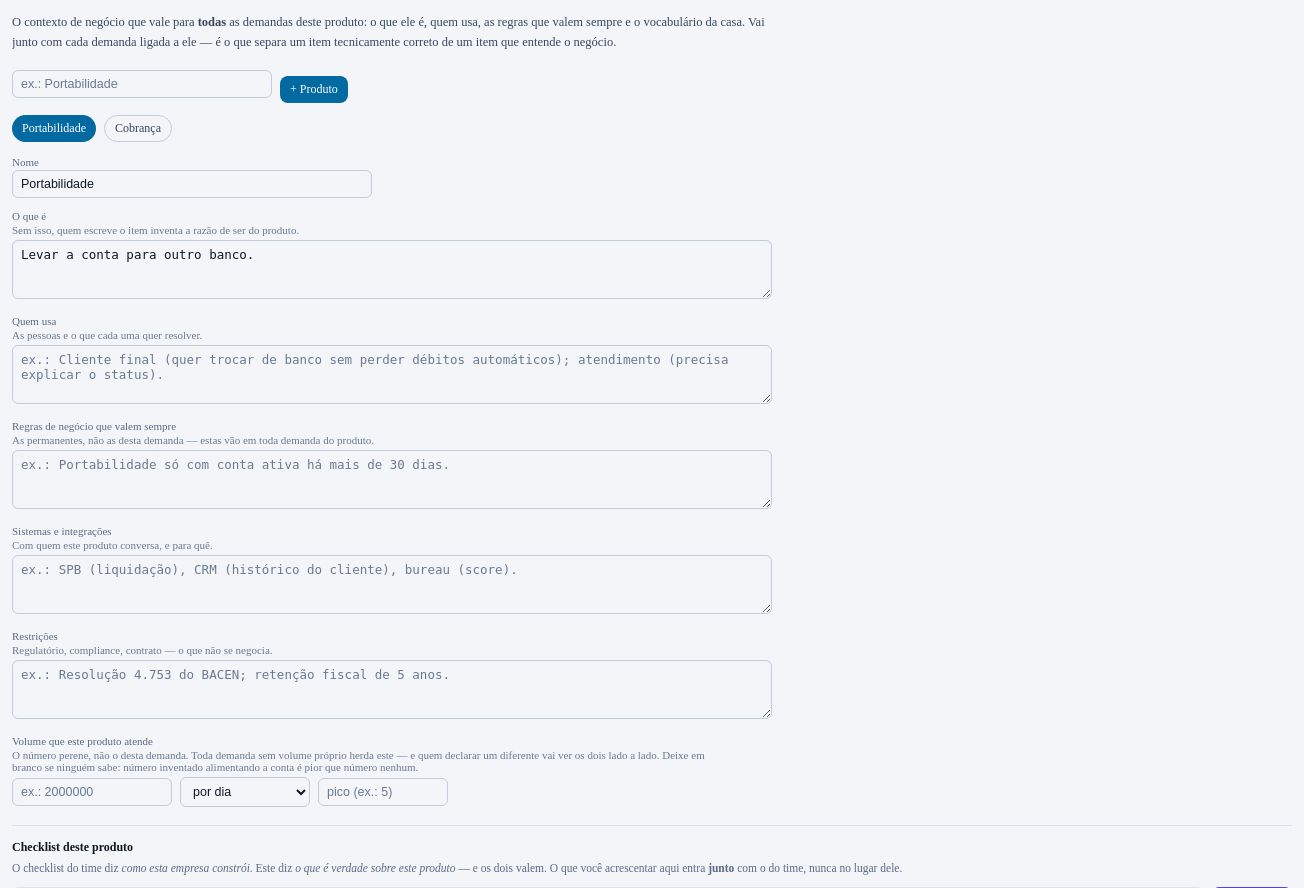
Test: ProdutosTab — o que a releitura pode e não pode substituir › TROCAR de produto substitui tudo — aí a pessoa pediu por isso
Replace the text in the text box named "O que é" with "rascunho do primeiro" at (392, 270), box x1=12 y1=240 x2=772 y2=299
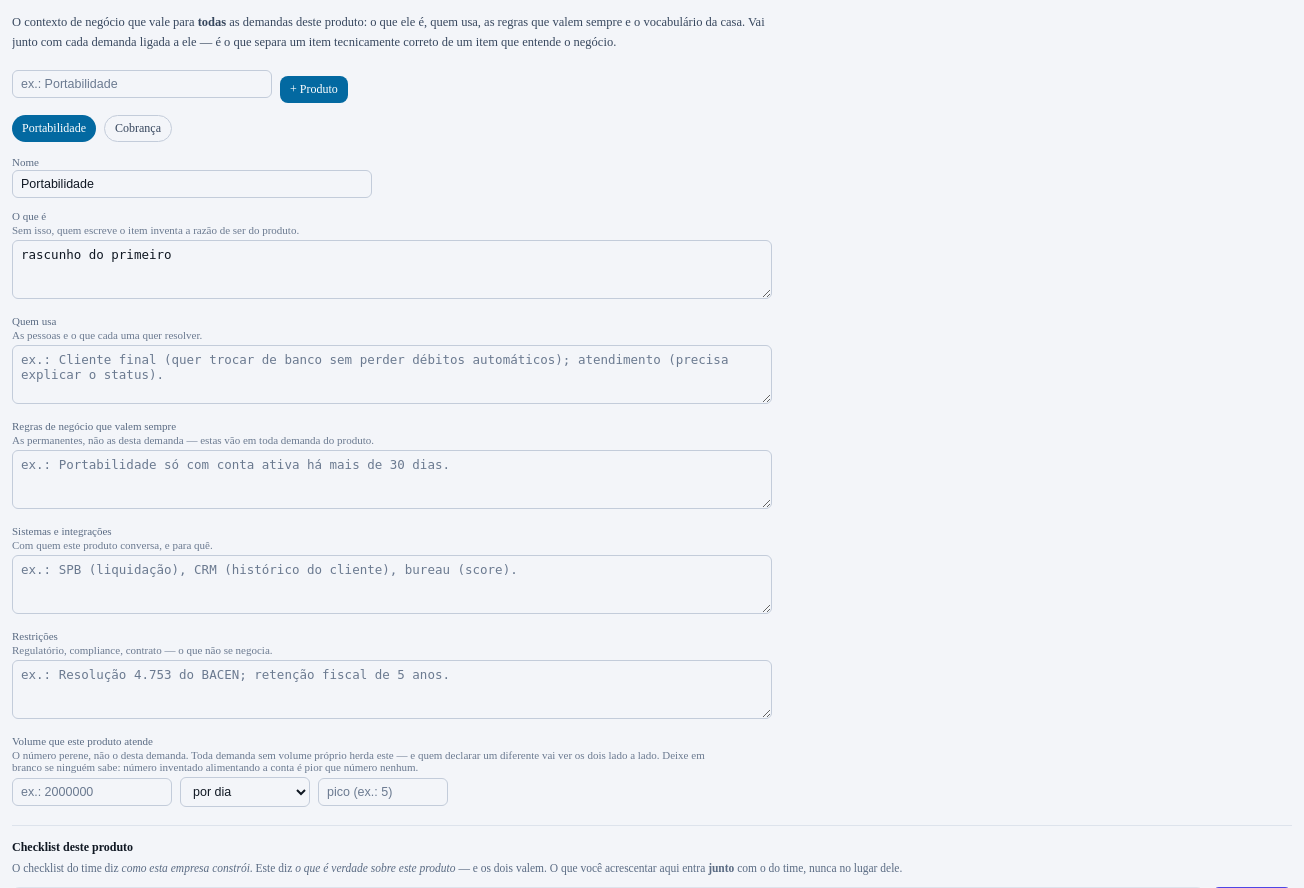
Click the button "Cobrança".
click(138, 128)  # box x1=104 y1=115 x2=172 y2=142
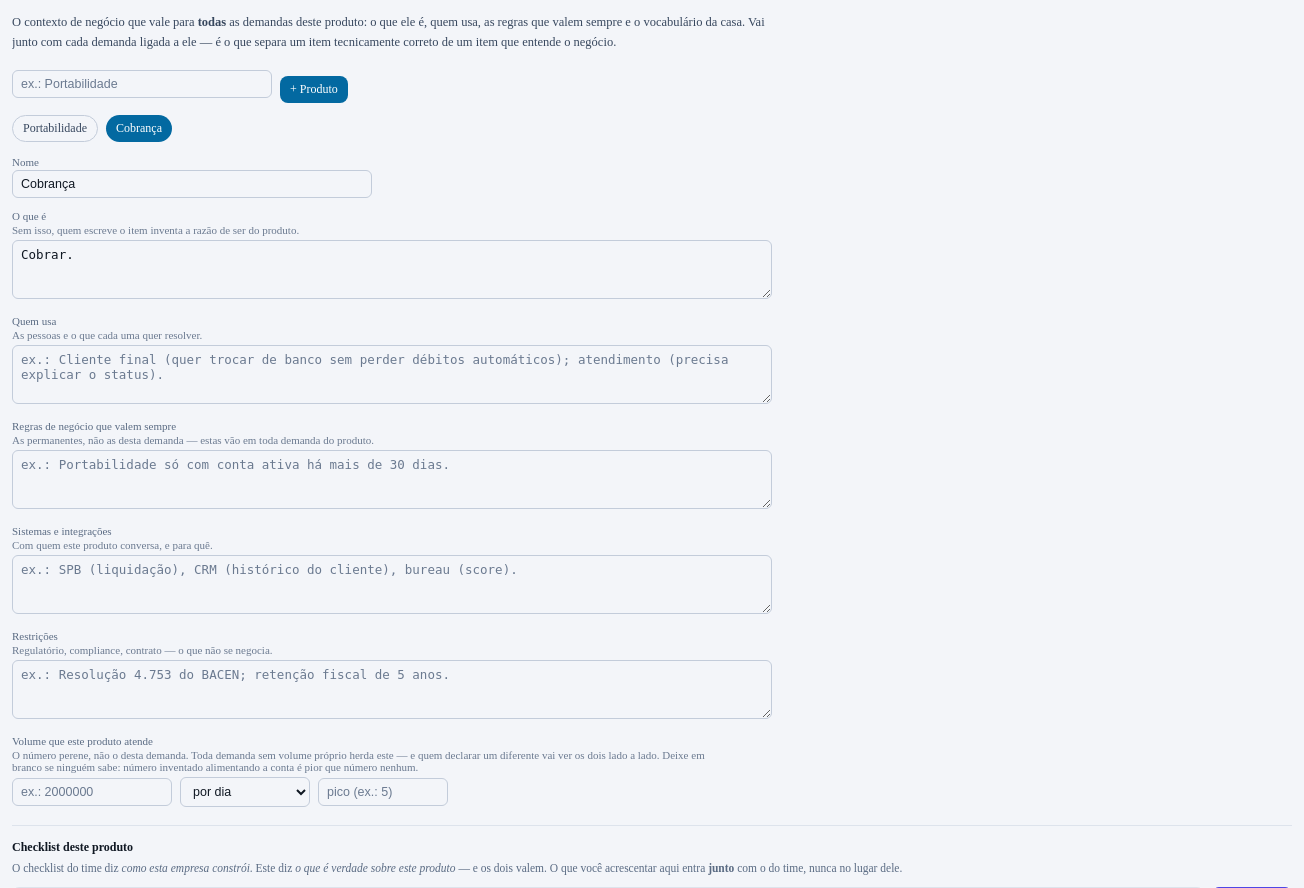
Result: the text box named "O que é" holds "Cobrar." at x1=12 y1=240 x2=772 y2=299
